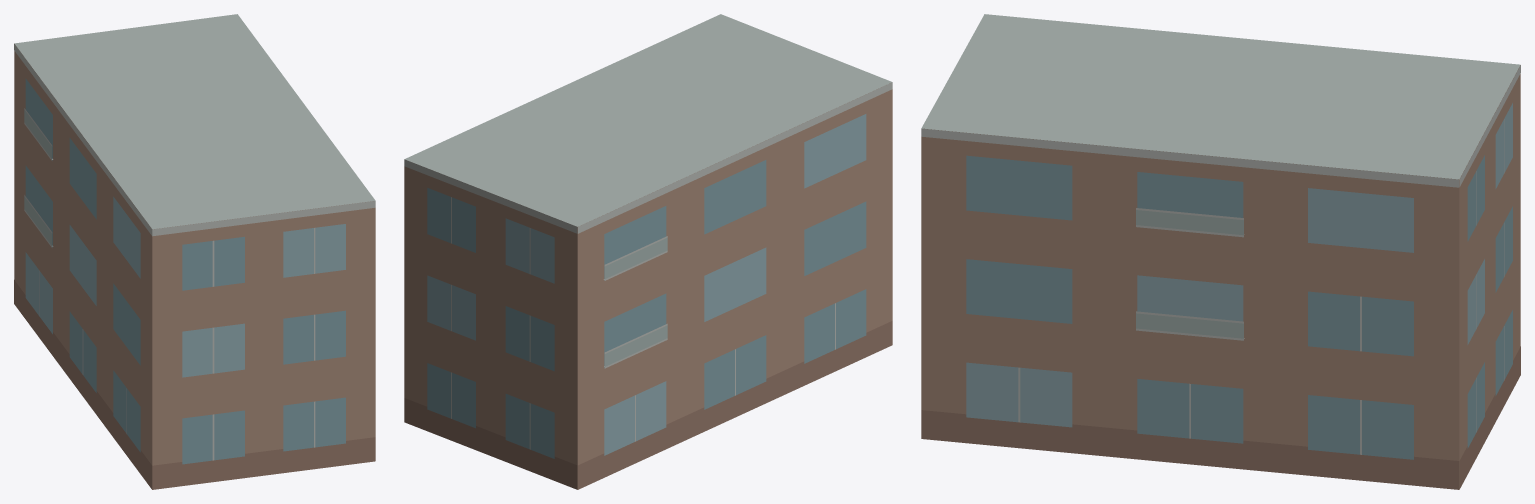
The model's file is survey-upis-32830688.glb.
The picture shows the model from 3 angles, left to right: view 1: azimuth 30°, elevation 25°; view 2: azimuth 150°, elevation 25°; view 3: azimuth 270°, elevation 25°; orthographic projection. The views are drawn at different scales.
Visible parts, largest first — view 1: survey-upis-32830688.tmp; view 2: survey-upis-32830688.tmp; view 3: survey-upis-32830688.tmp.
Boxes of the visible parts, x1,y1,x2,y2 form: survey-upis-32830688.tmp: [14, 14, 375, 489]; survey-upis-32830688.tmp: [404, 14, 892, 489]; survey-upis-32830688.tmp: [921, 14, 1520, 489].
Size of the model in its own units: 10.47 by 9.15 by 16.03.
